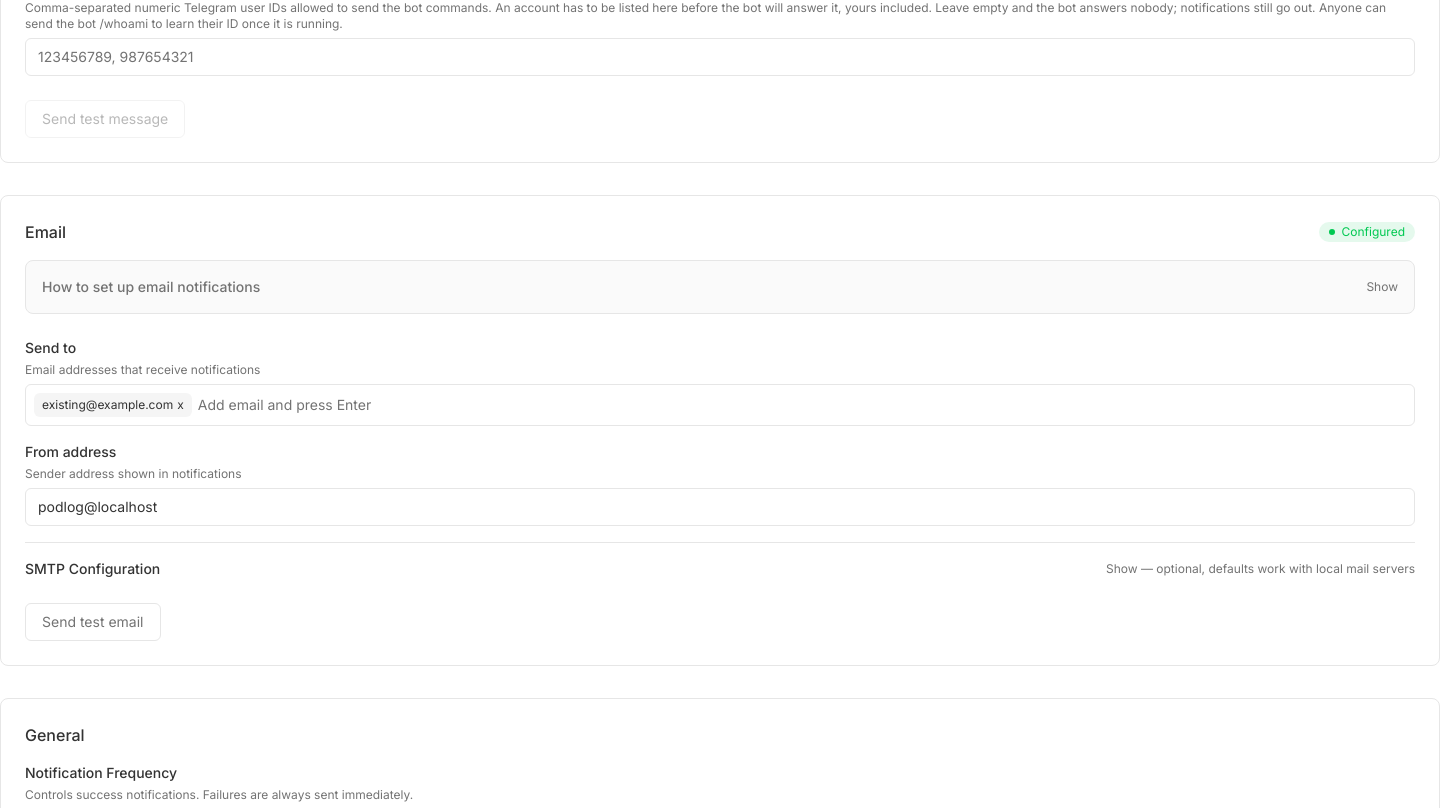
it: Email tag input › rejects an invalid email with error message
The image size is (1440, 808).
(page scrolled)
expect the text "existing@example.com" is shown: met, box [42,397,173,412]
Type "not-an-email" into the field with placeholder "Add email and press Enter" at [802, 405], box [198,391,1406,419]
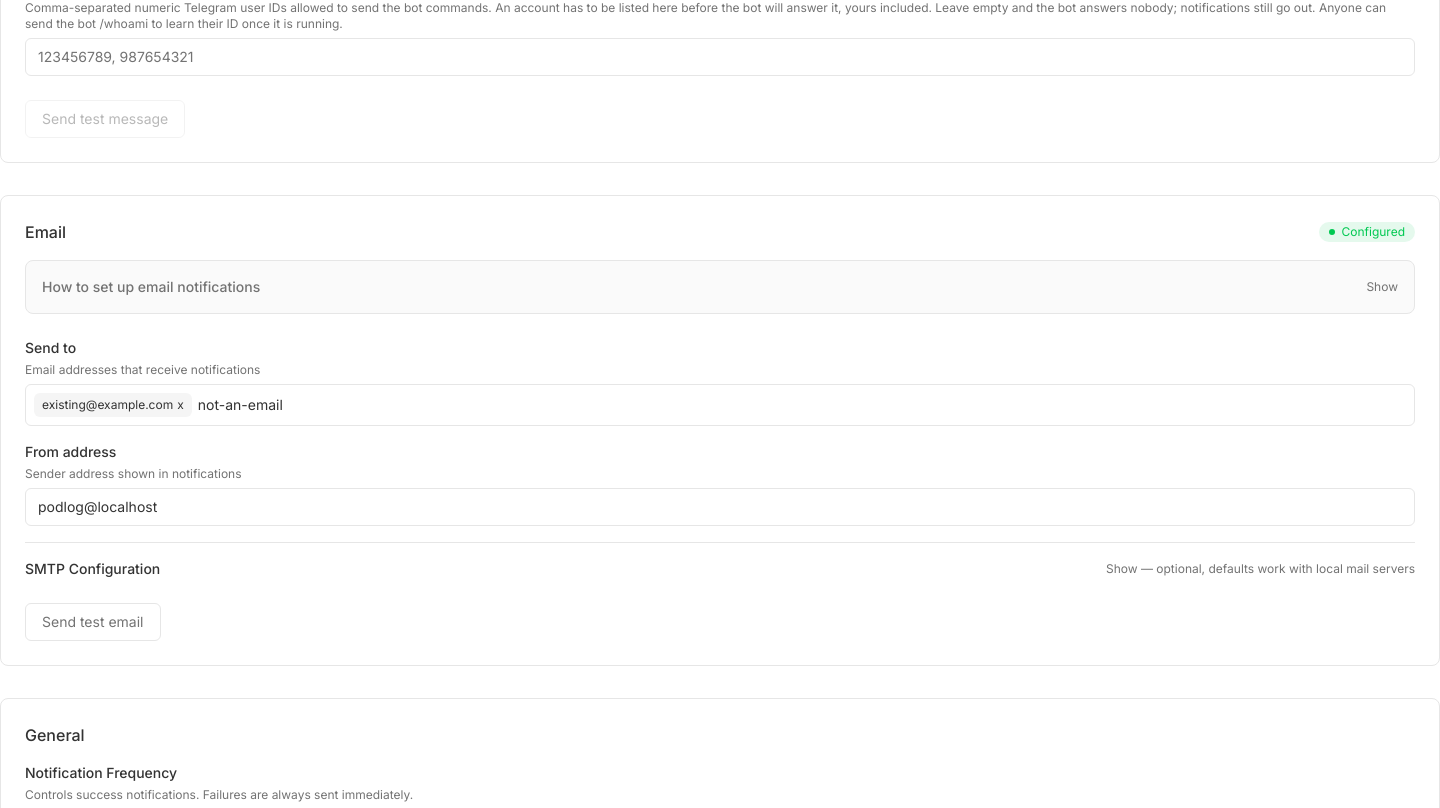
Press Enter in the field with placeholder "Add email and press Enter", box [198,391,1406,419]
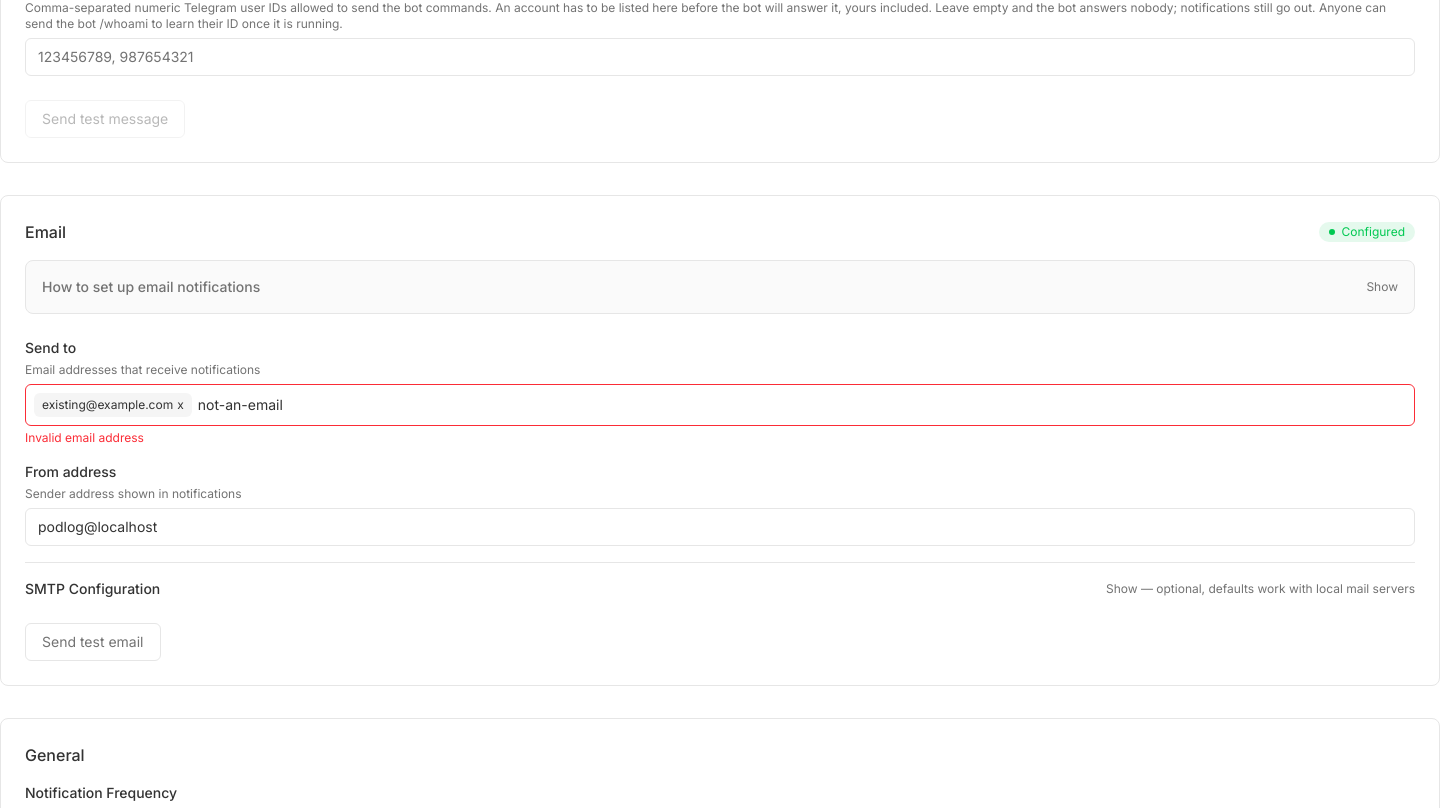
expect the text "Invalid email address" is shown: met, box [25,430,144,445]
